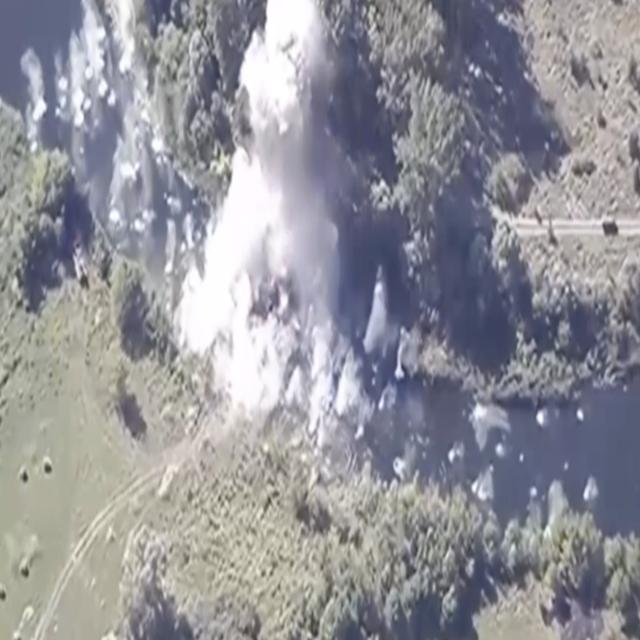vehicle: (71, 242, 90, 289), (98, 246, 112, 282)
